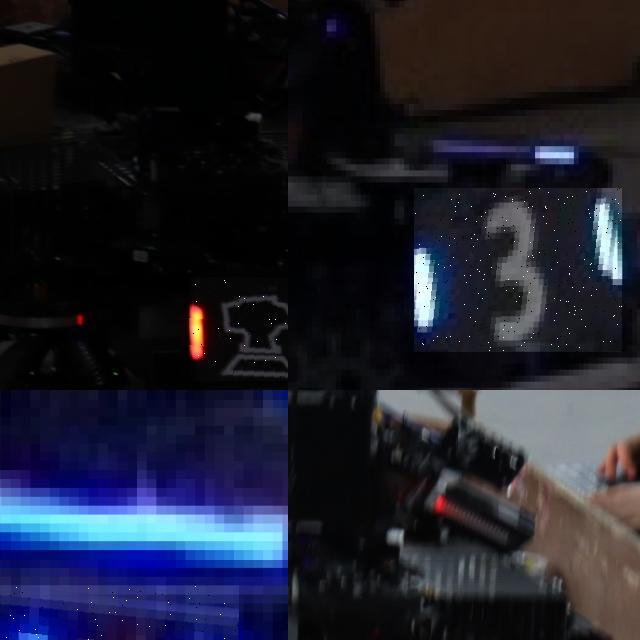B3: (414, 188, 622, 352)
B4: (0, 585, 238, 640)
Rs: (188, 277, 288, 381)
